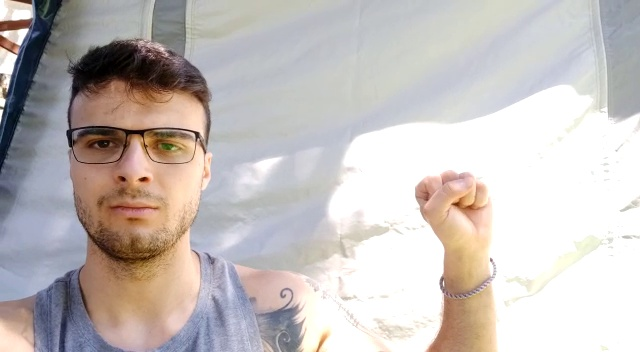Fist: (413, 168, 497, 248)
